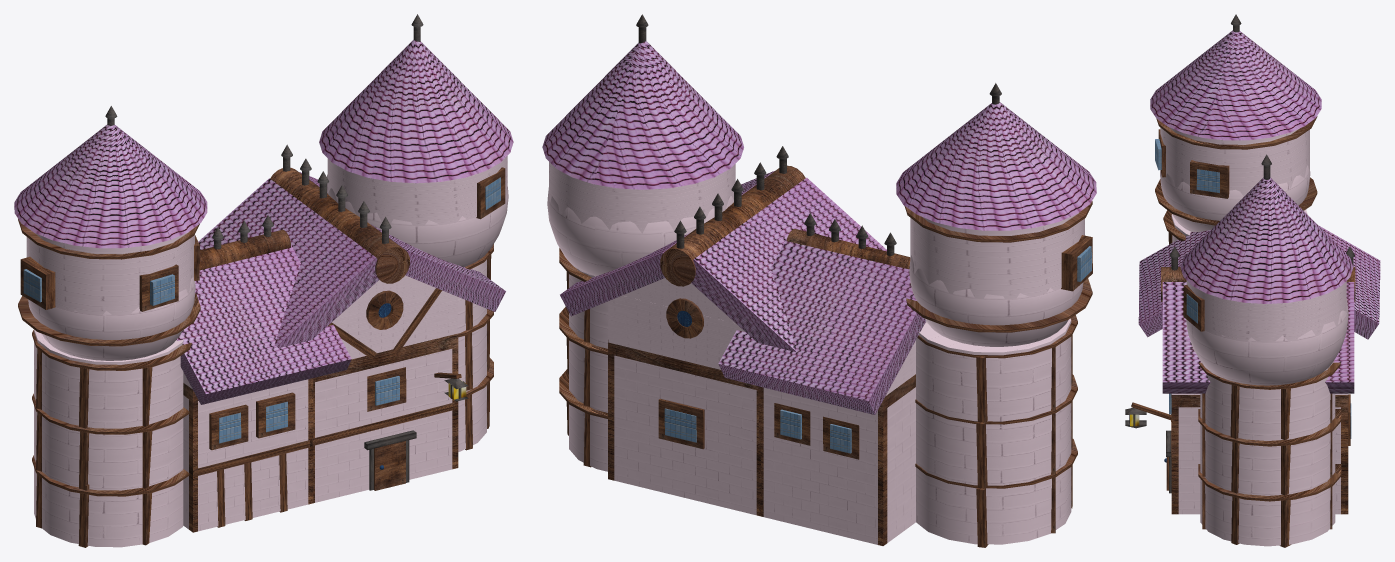
The model's file is CASA_HECHIZOS_NIVEL_3.fbx.
The picture shows the model from 3 angles, left to right: view 1: azimuth 30°, elevation 25°; view 2: azimuth 150°, elevation 25°; view 3: azimuth 270°, elevation 25°; orthographic projection. The views are drawn at different scales.
Parts seen in each view (by area): view 1: Cylinder048, Cone026, Box068, Cone028, Box051, Box070, Box053, Cylinder049, Cylinder043, Sphere005, Sphere004, Box065 (+23 smaller); view 2: Cylinder048, Box069, Box051, Box070, Cone026, Cone028, Box053, Cylinder049, Sphere005, Cylinder043, Sphere004, Box065 (+19 smaller); view 3: Cylinder042, Cone026, Cone028, Sphere004, Cylinder049, Cylinder043, Box052, Box051, Sphere005, Box068, Box069, Cylinder044 (+14 smaller).
Part boxes in pixels (x1,y1,x2,y2): Cylinder048: (34,329,183,547); Cone026: (319,40,513,183); Box068: (177,245,351,404); Cone028: (14,124,207,248); Box051: (309,333,458,503); Box070: (183,378,313,532); Box053: (198,178,379,348); Cylinder049: (26,232,194,314); Cylinder043: (327,156,507,226); Sphere005: (28,277,195,360); Sphere004: (327,174,508,266); Box065: (332,291,457,359); Cylinder048: (916,318,1071,544); Box069: (718,238,925,414); Box051: (608,340,762,516); Box070: (758,374,915,545); Cone026: (542,41,743,189); Cone028: (896,102,1096,230); Box053: (691,177,886,351); Cylinder049: (910,213,1084,299); Sphere005: (909,255,1083,346); Cylinder043: (549,162,735,233); Sphere004: (547,187,733,275); Box065: (608,295,744,369); Cylinder042: (1200,361,1335,546); Cone026: (1180,177,1353,303); Cone028: (1150,30,1321,140); Sphere004: (1186,298,1348,385); Cylinder049: (1160,127,1309,196); Cylinder043: (1186,280,1346,342); Box052: (1162,282,1354,393); Box051: (1171,394,1348,514); Sphere005: (1160,165,1310,232); Box068: (1138,230,1210,337); Box069: (1318,225,1380,339); Cylinder044: (1198,464,1341,501).
Size of the model in its own units: 2.37 by 1.9 by 1.2.
